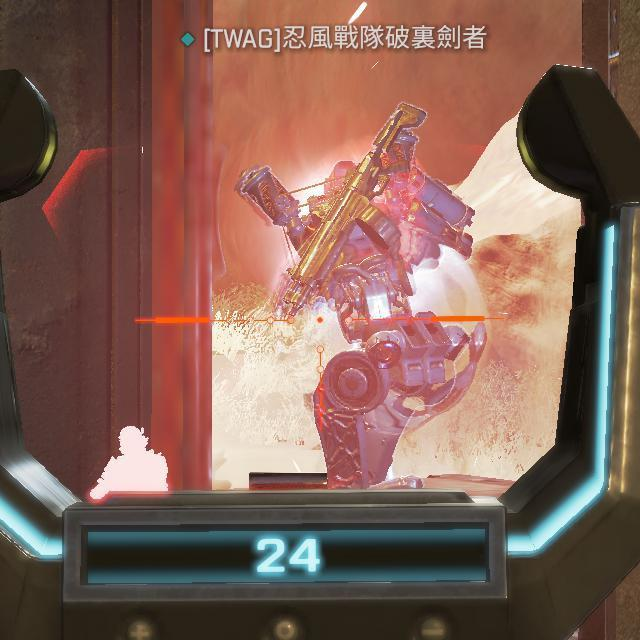avatar: (273, 157, 477, 490)
